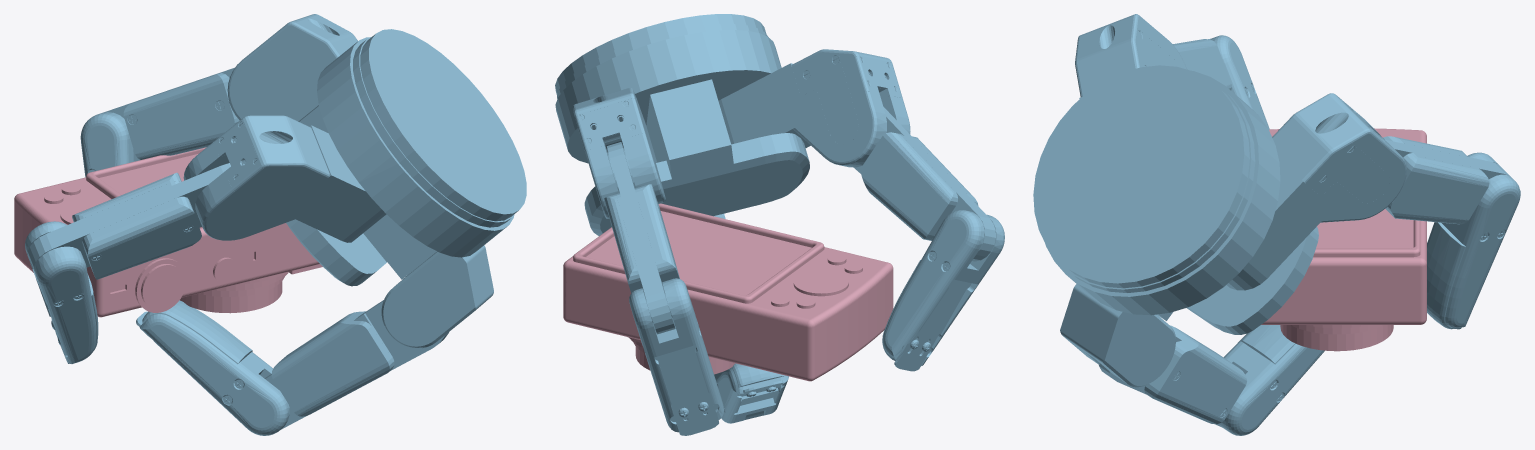
The picture shows the model from 3 angles, left to right: view 1: azimuth 30°, elevation 25°; view 2: azimuth 150°, elevation 25°; view 3: azimuth 270°, elevation 25°; orthographic projection. The views are drawn at different scales.
Parts seen in each view (by area): view 1: world; view 2: world; view 3: world.
Part boxes in pixels (left/top/right/bottom): world: left=14, top=14, right=526, bottom=435; world: left=555, top=14, right=1004, bottom=435; world: left=1033, top=14, right=1520, bottom=435.
Bounding box in the file's own units: 0.2002 × 0.1586 × 0.1753.
